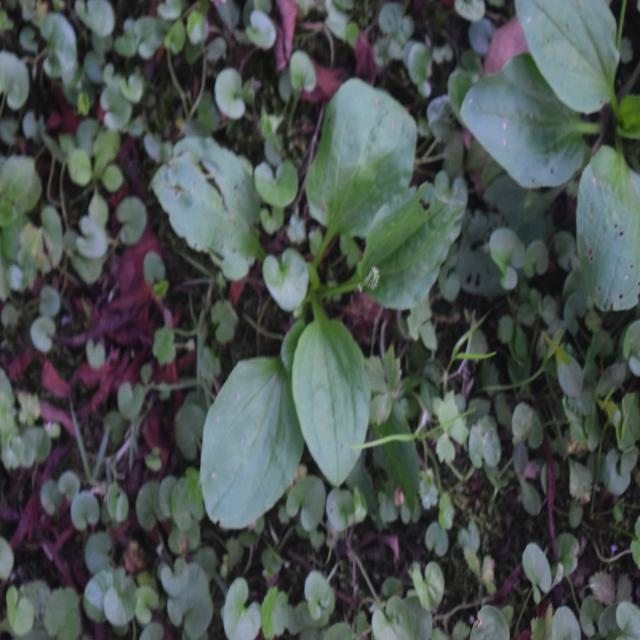plantain: (164, 80, 454, 544)
